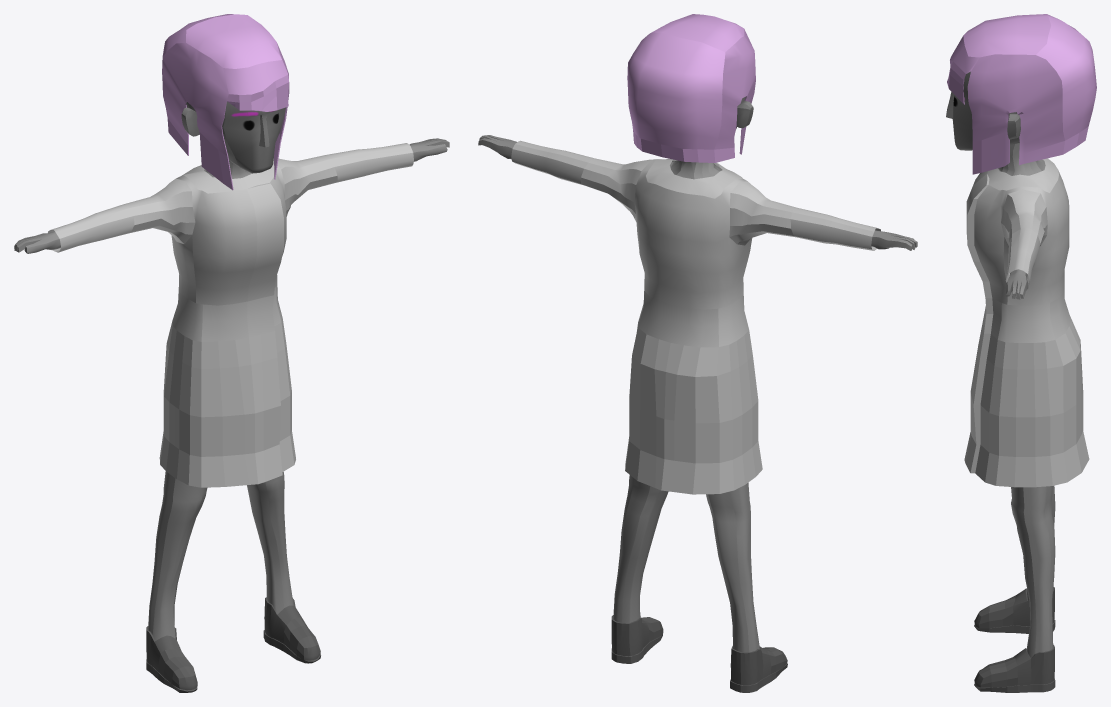
File: newStyleFemaleHeadBody.fbx
3 renders of one model, left to right at view 1: azimuth 30°, elevation 25°; view 2: azimuth 150°, elevation 25°; view 3: azimuth 270°, elevation 25°, orthographic.
Visible parts, largest first — view 1: polySurface5, polySurface4, polySurface2; view 2: polySurface5, polySurface4, polySurface2; view 3: polySurface5, polySurface2, polySurface4.
Part boxes in pixels (x1=…): polySurface5: x1=48, y1=143, x2=413, y2=487; polySurface4: x1=14, y1=102, x2=449, y2=692; polySurface2: x1=162, y1=14, x2=289, y2=190; polySurface5: x1=511, y1=140, x2=880, y2=494; polySurface4: x1=478, y1=97, x2=917, y2=692; polySurface2: x1=627, y1=14, x2=755, y2=162; polySurface5: x1=964, y1=158, x2=1089, y2=487; polySurface2: x1=947, y1=14, x2=1096, y2=174; polySurface4: x1=946, y1=71, x2=1055, y2=692.
Size of the model in its own units: 4.44 by 6.21 by 1.34.
5 materials, 1 textured.
